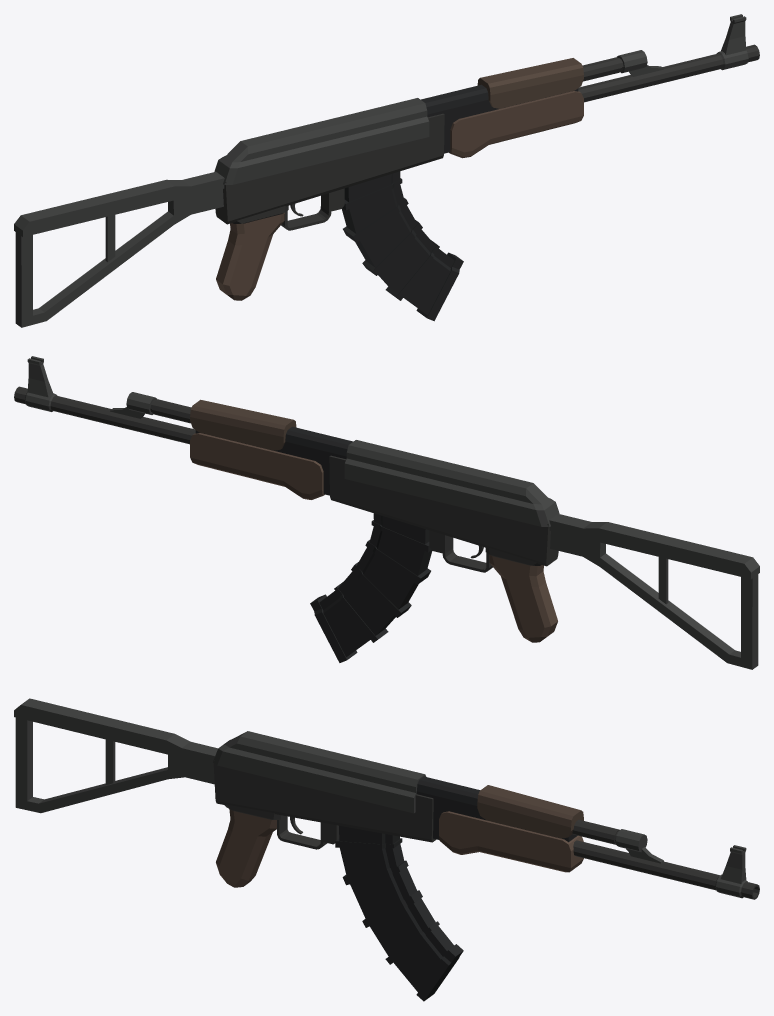
The model's file is Assault Rifle-fpLucho45C.glb.
The picture shows the model from 3 angles, top to bottom: view 1: azimuth 30°, elevation 25°; view 2: azimuth 150°, elevation 25°; view 3: azimuth 330°, elevation 25°; orthographic projection.
Parts seen in each view (by area): view 1: Assault Rifle-fpLucho45C; view 2: Assault Rifle-fpLucho45C; view 3: Assault Rifle-fpLucho45C.
Part boxes in pixels (x1=…): Assault Rifle-fpLucho45C: x1=14, y1=14, x2=759, y2=327; Assault Rifle-fpLucho45C: x1=14, y1=356, x2=759, y2=669; Assault Rifle-fpLucho45C: x1=14, y1=698, x2=759, y2=1001.
Size of the model in its own units: 0.7433 by 0.2167 by 0.0265.
